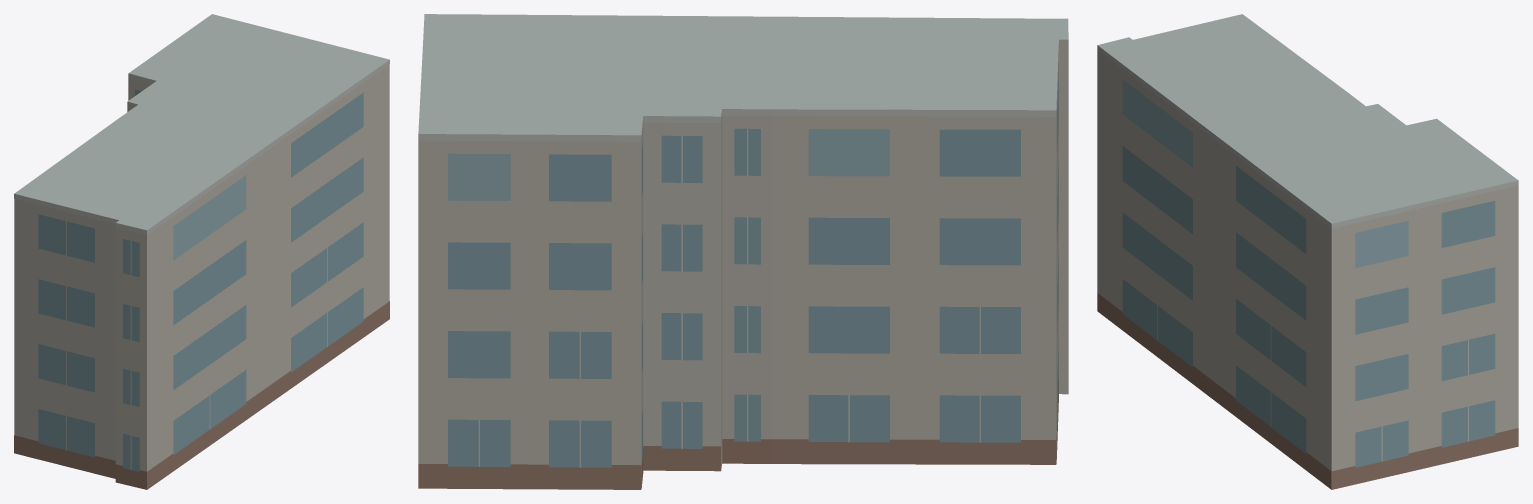
Rendered from survey-upis-32745797.glb.
3 views of the same model, side by side, from view 1: azimuth 30°, elevation 25°; view 2: azimuth 150°, elevation 25°; view 3: azimuth 270°, elevation 25° (orthographic). The views are drawn at different scales.
Parts seen in each view (by area): view 1: survey-upis-32745797.tmp; view 2: survey-upis-32745797.tmp; view 3: survey-upis-32745797.tmp.
Part boxes in pixels (x1,y1,x2,y2): survey-upis-32745797.tmp: (14,14,389,489); survey-upis-32745797.tmp: (418,14,1068,489); survey-upis-32745797.tmp: (1097,14,1518,489).
Size of the model in its own units: 21.98 by 13 by 18.65.
